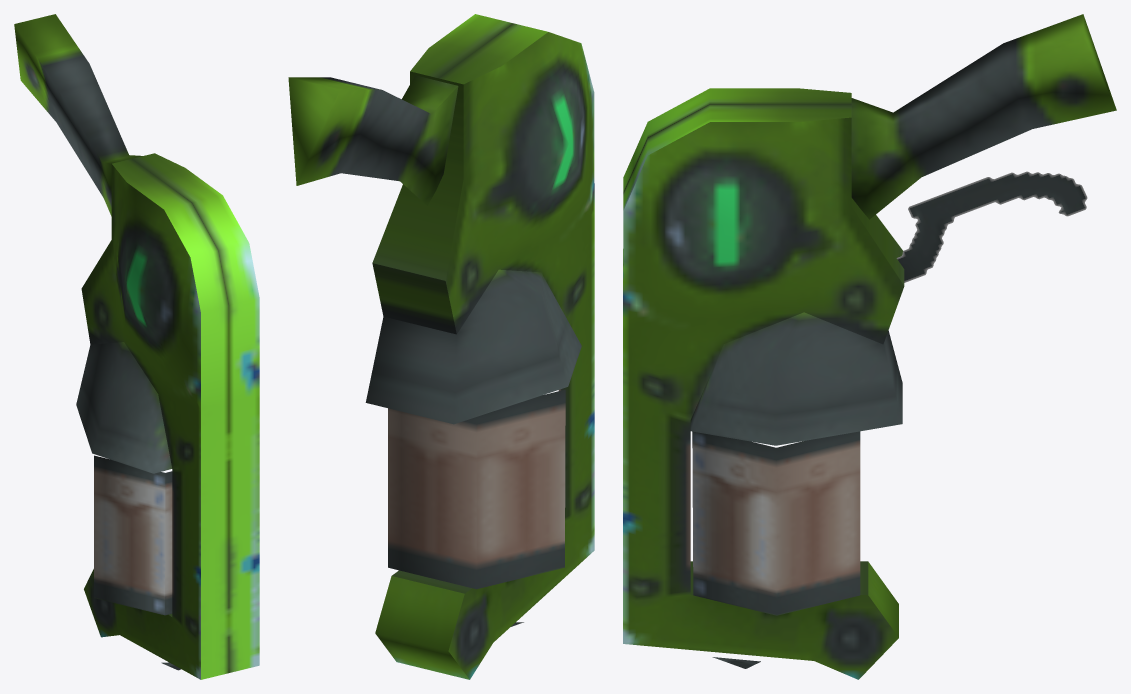
3 renders of one model, left to right at view 1: azimuth 30°, elevation 25°; view 2: azimuth 150°, elevation 25°; view 3: azimuth 270°, elevation 25°, orthographic. The views are drawn at different scales.
Parts seen in each view (by area): view 1: autogun.model_dg-Mesh[0]; view 2: autogun.model_dg-Mesh[0]; view 3: autogun.model_dg-Mesh[0].
Boxes of the visible parts, left/top/right/bottom form: autogun.model_dg-Mesh[0]: left=14, top=14, right=259, bottom=679; autogun.model_dg-Mesh[0]: left=288, top=14, right=594, bottom=679; autogun.model_dg-Mesh[0]: left=623, top=14, right=1116, bottom=679.
Bounding box in the file's own units: 0.189 × 0.6735 × 0.4685.
1 material, 1 textured.
